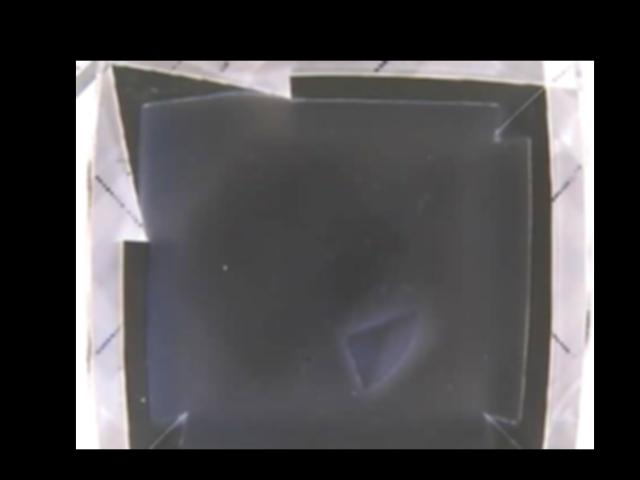Mooli: (343, 307, 422, 386)
